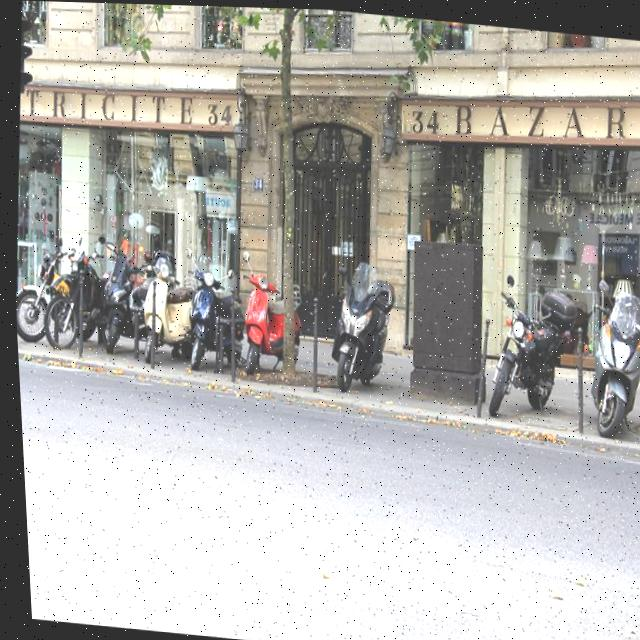motorcycle: (471, 266, 595, 441), (226, 248, 320, 386), (320, 253, 408, 396), (575, 271, 640, 448), (38, 229, 119, 371), (176, 250, 250, 384), (124, 242, 199, 372), (89, 236, 157, 365), (12, 239, 62, 349)
